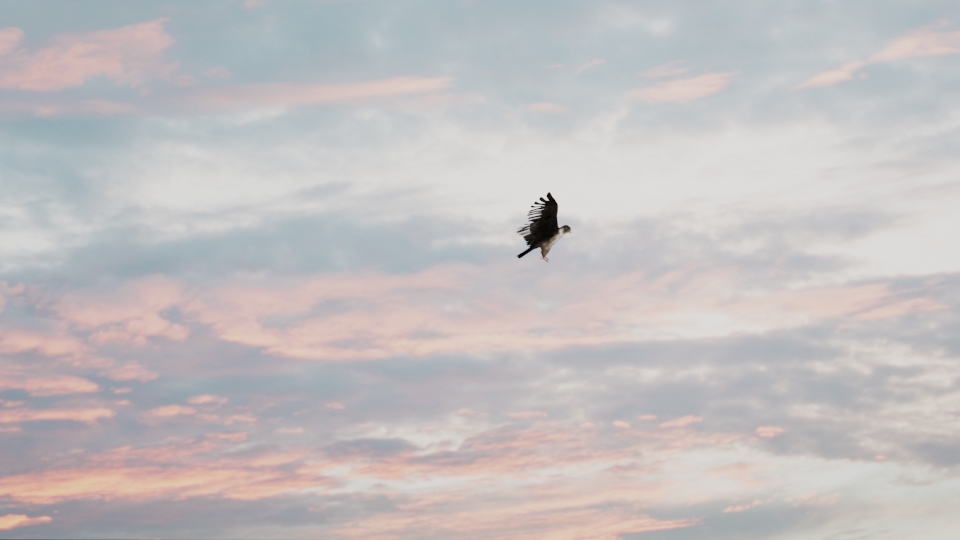bird: (513, 193, 569, 264)
